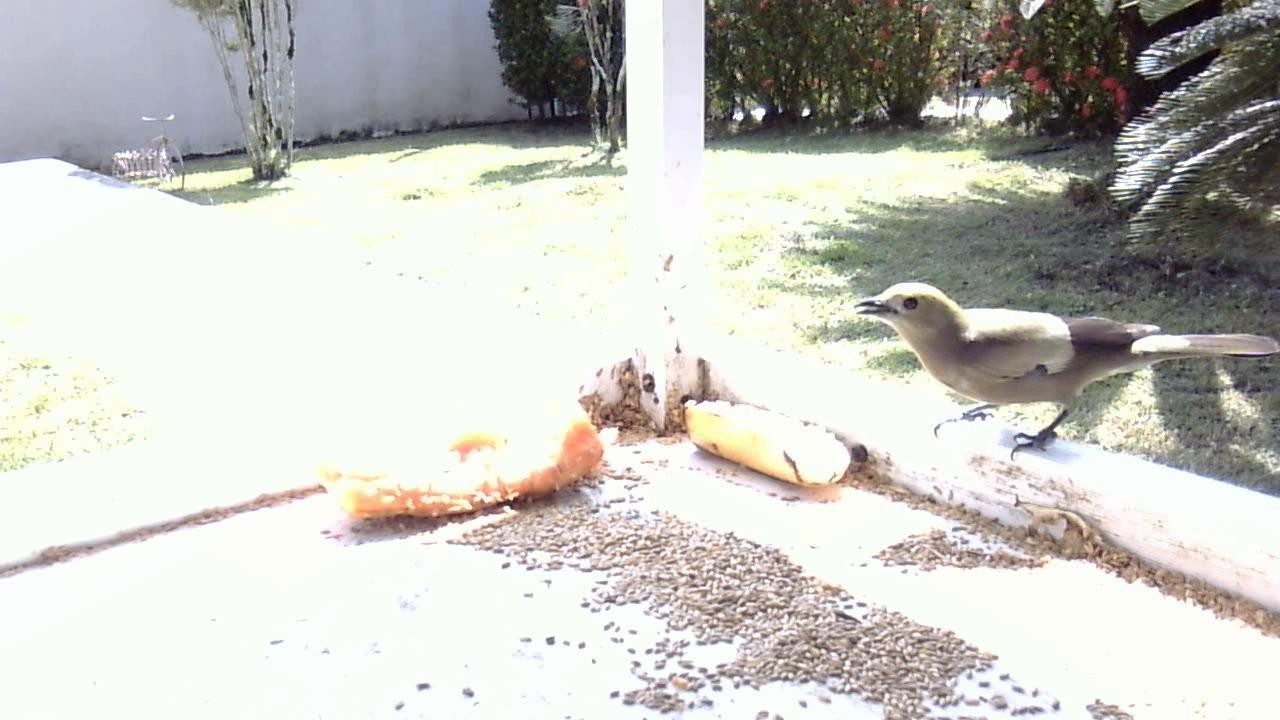sanhaco_do_coqueiro: (844, 283, 1272, 469)
